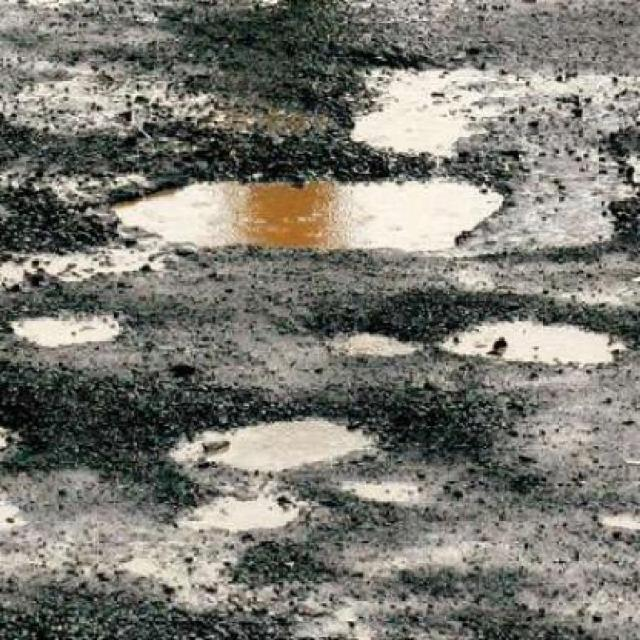pothole: (106, 163, 516, 252), (164, 406, 385, 476), (438, 305, 638, 373), (170, 485, 328, 537), (5, 306, 130, 348), (324, 322, 433, 362)
